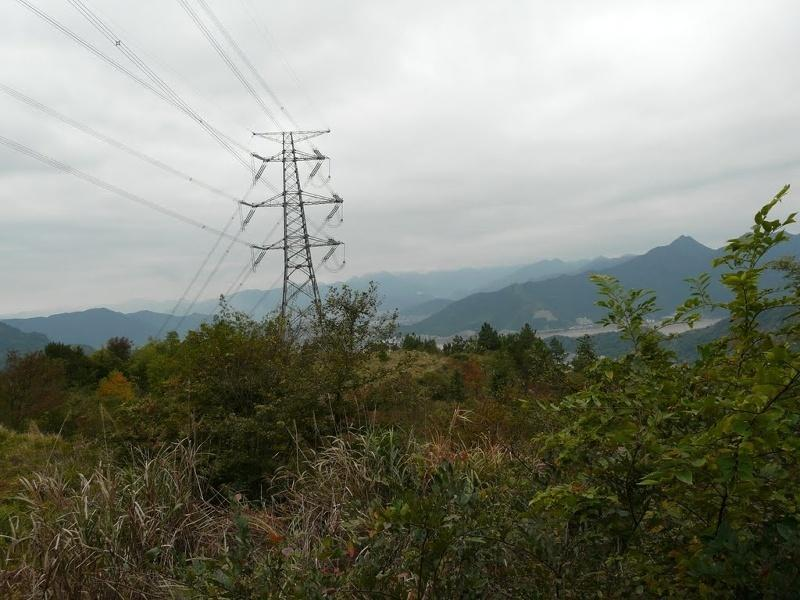power_tower: (229, 105, 351, 335)
